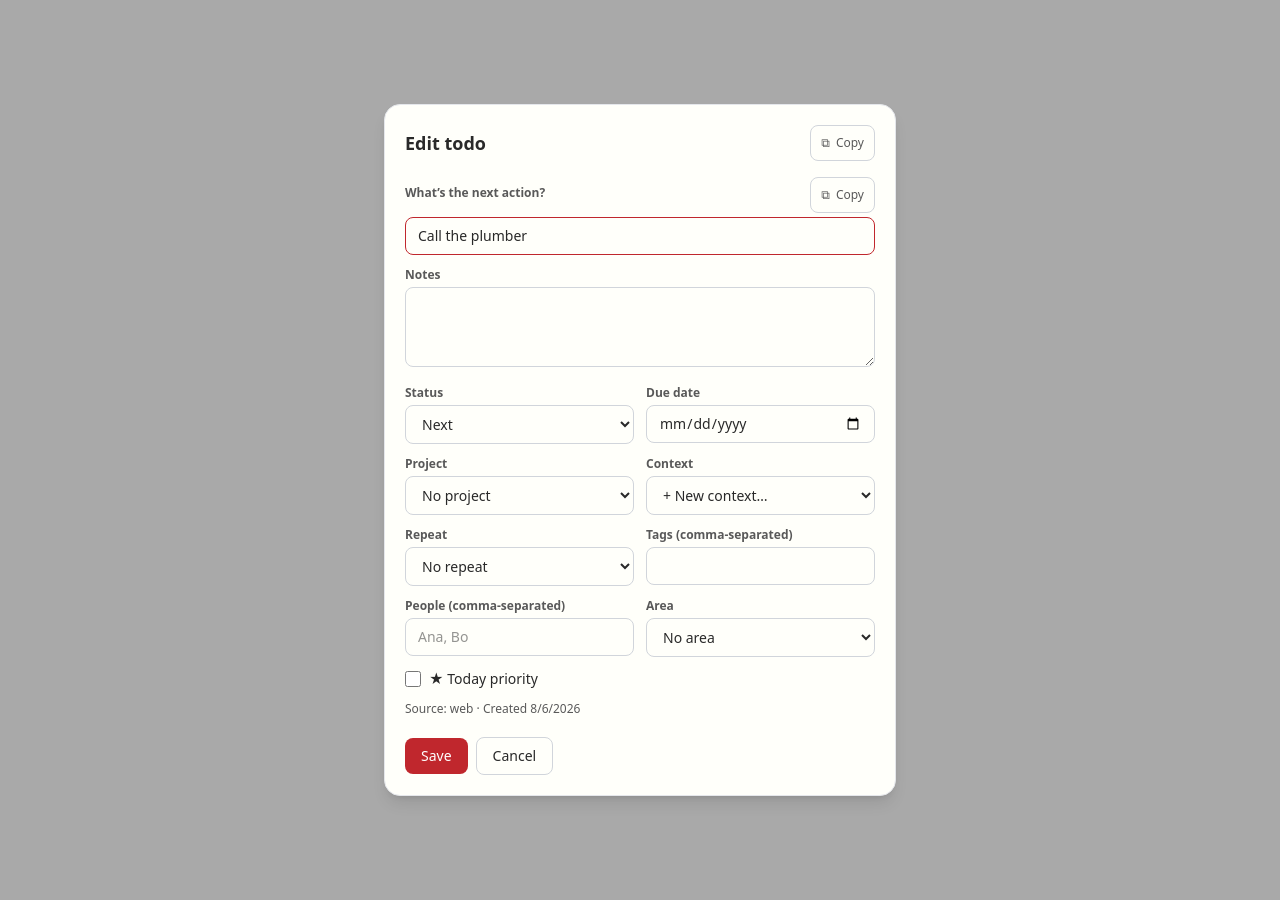
creating a context from the sheet › reveals an input and saves what is typed into it
Later steps or results of the test are not shown.
Select "+ New context…" in the dropdown with id "tgtd-context" at (760, 496), box left=646, top=476, right=875, bottom=515
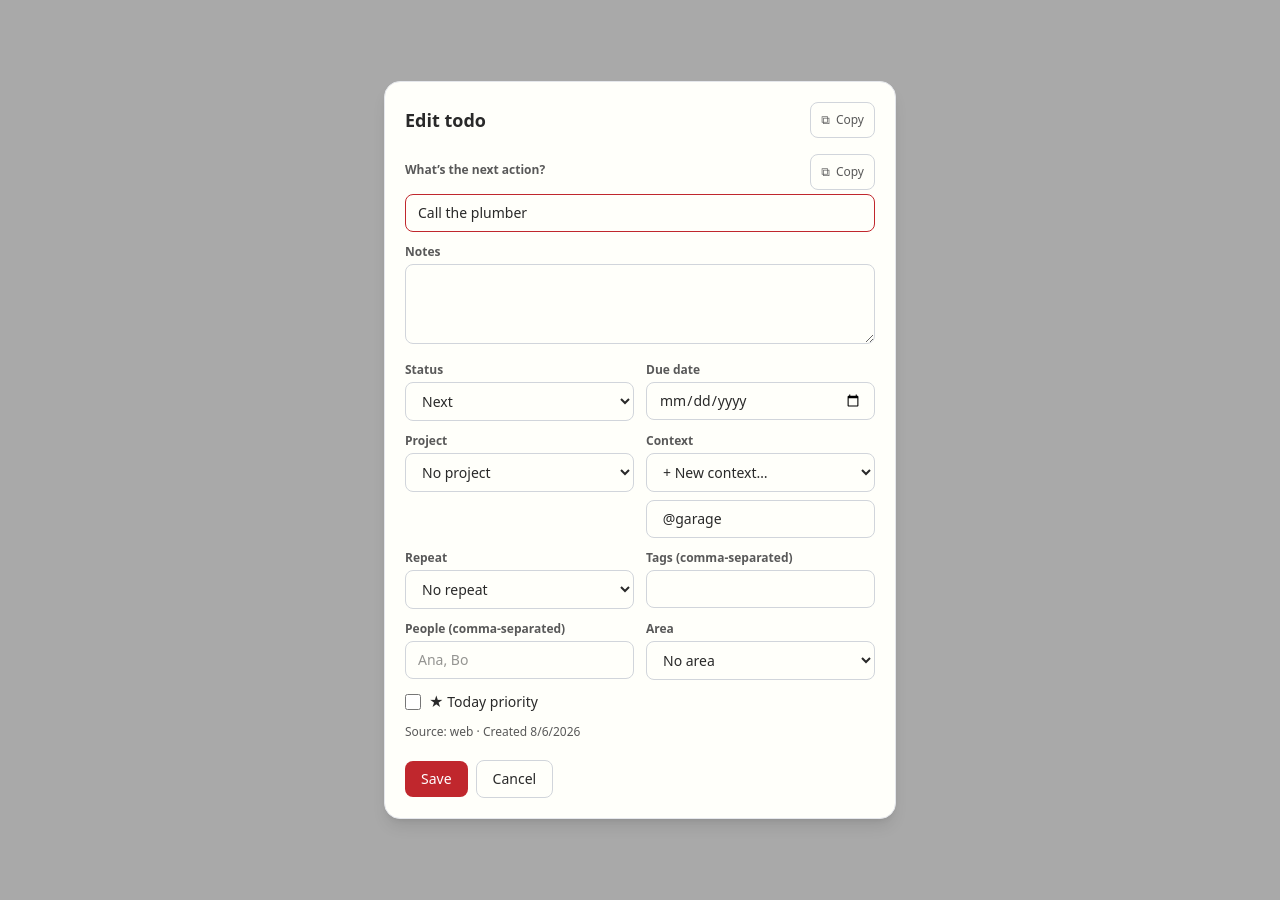
Now the field named "New context" is shown, box left=646, top=500, right=875, bottom=538
